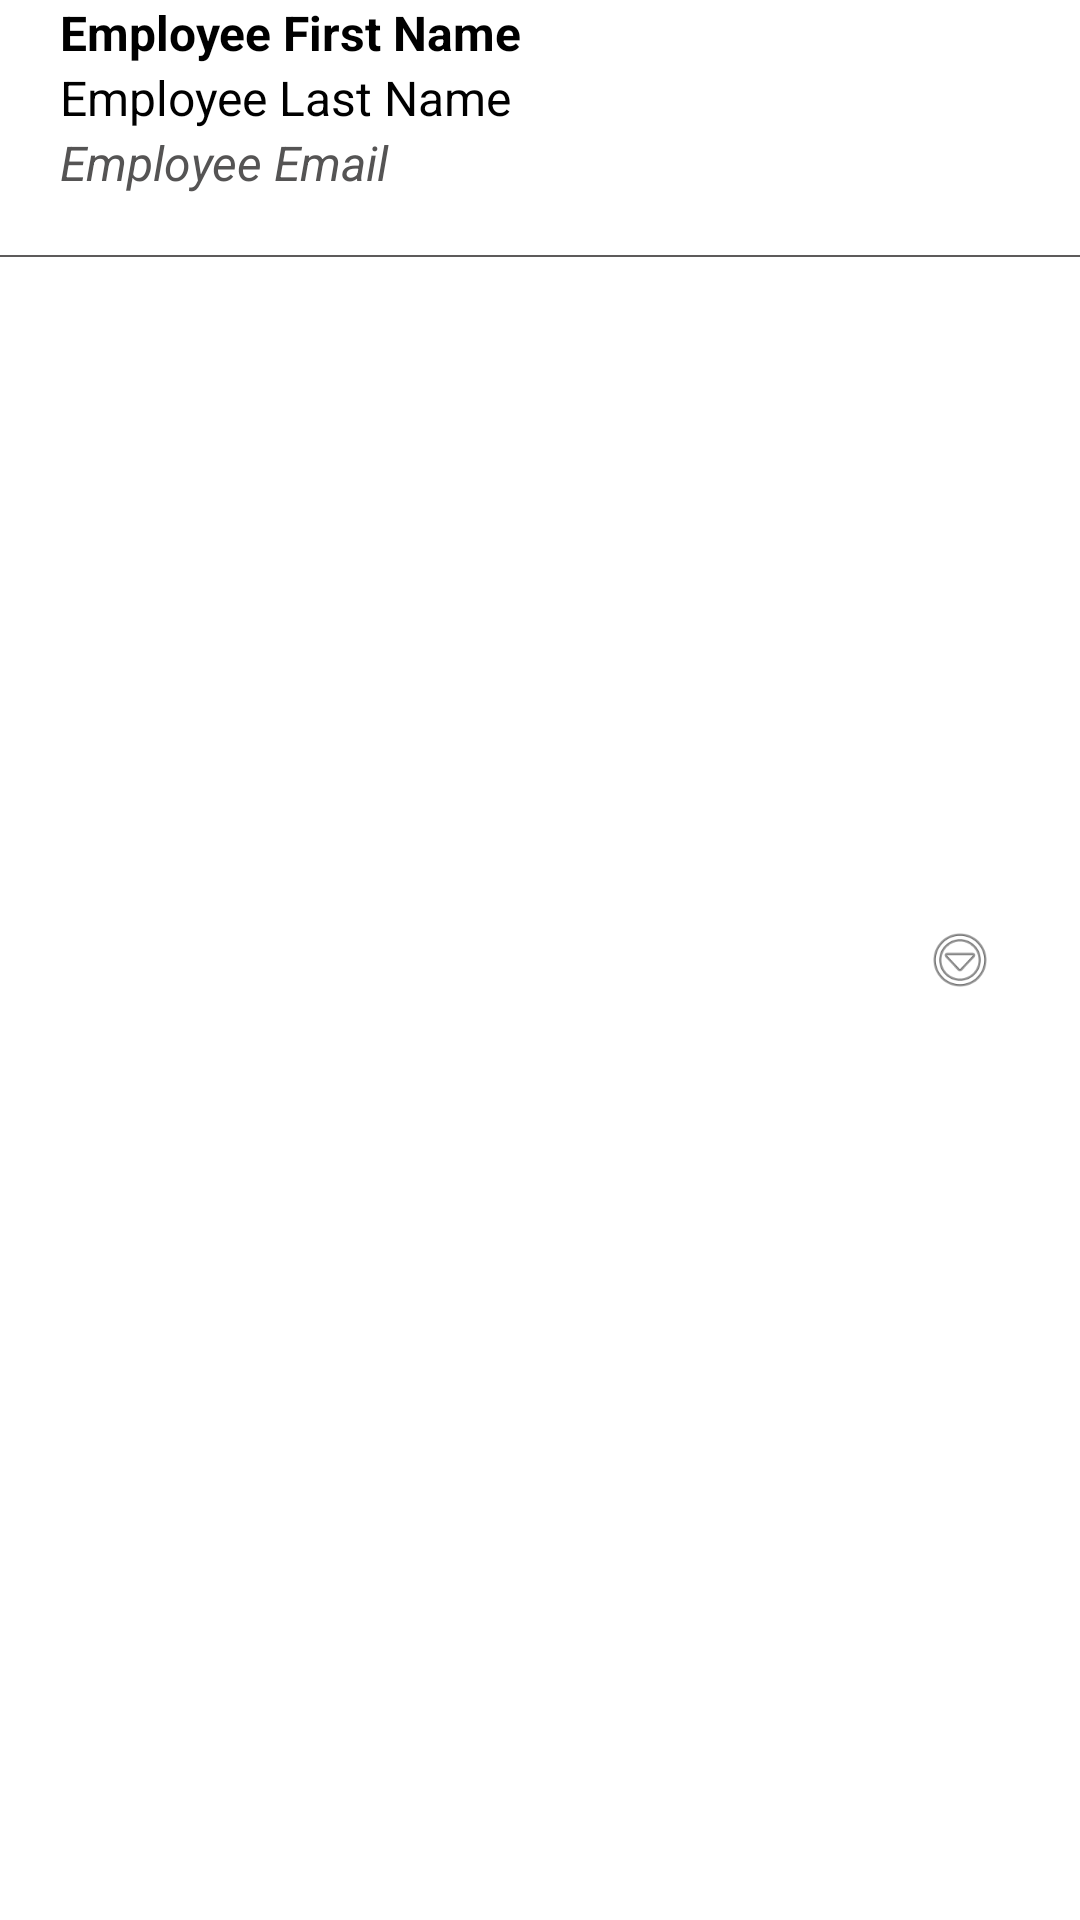

Icons on this 1080x1920 Android screen, each with the point to tap as (x=x, y=y):
Open actions menu: (x=960, y=960)
